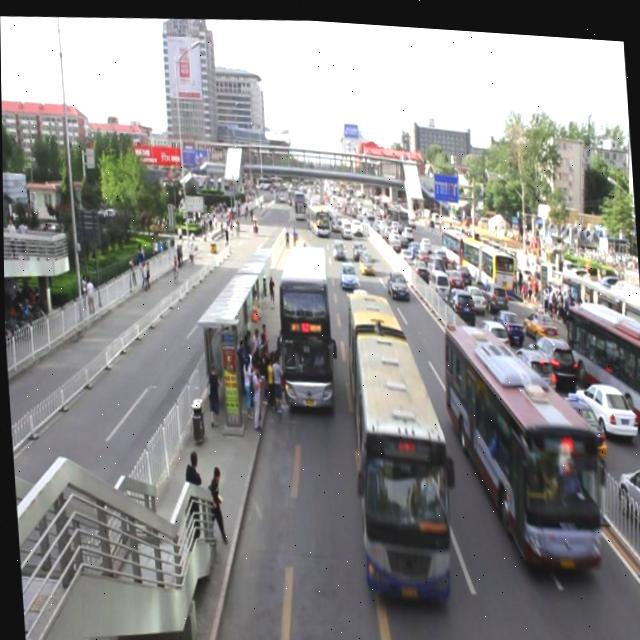car: (385, 262, 407, 295), (337, 256, 357, 285), (357, 247, 372, 270), (332, 234, 344, 254), (350, 237, 362, 253), (329, 209, 339, 228), (350, 214, 360, 232)
truck: (339, 213, 350, 233)
van: (442, 307, 600, 570), (342, 282, 454, 603), (275, 239, 333, 410), (303, 198, 328, 232)
